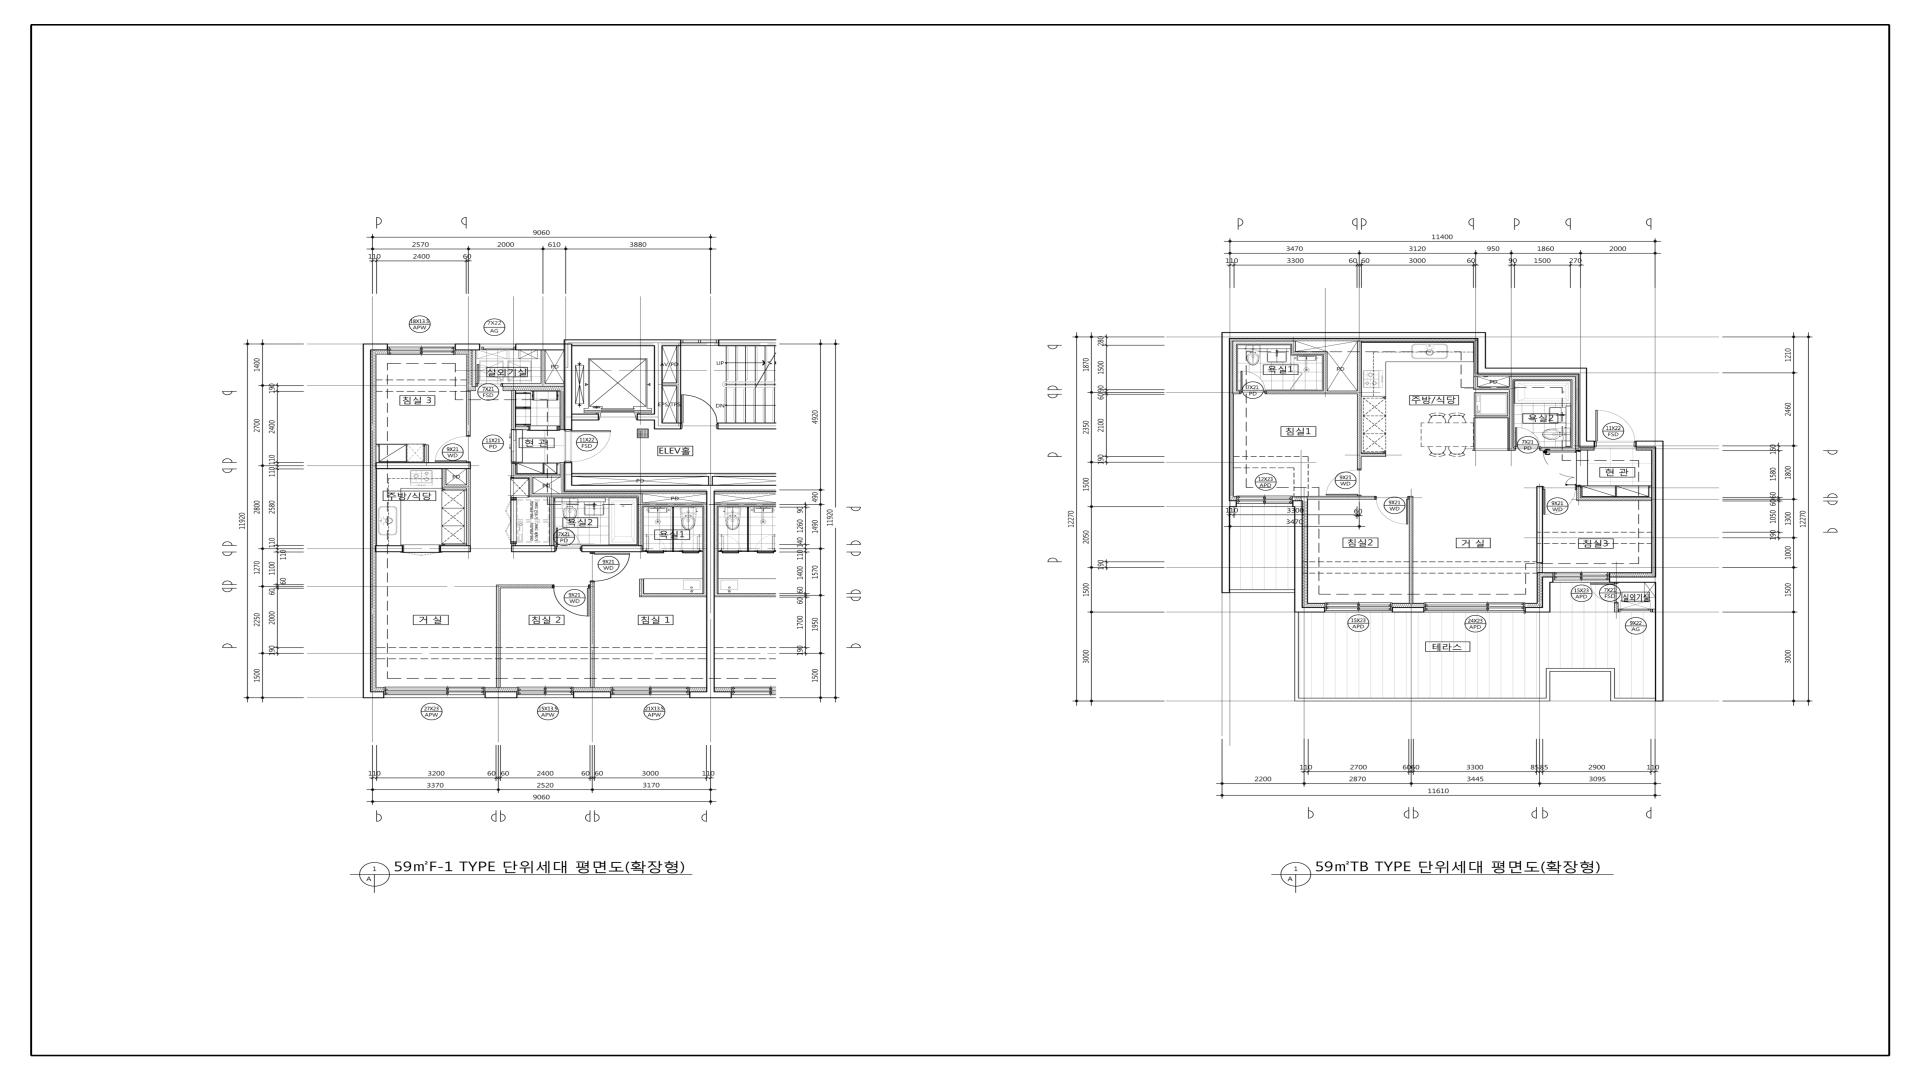door: (564, 430, 612, 463), (1594, 410, 1635, 447), (1543, 451, 1581, 485), (682, 394, 719, 429), (553, 584, 591, 617), (589, 553, 632, 582), (1325, 469, 1362, 496), (1375, 496, 1408, 525), (435, 436, 471, 463), (1543, 487, 1576, 514), (1514, 427, 1542, 451), (1240, 371, 1266, 394), (555, 527, 582, 551), (476, 364, 502, 386), (1590, 583, 1618, 603), (402, 545, 440, 555), (1290, 371, 1303, 390), (510, 430, 517, 463), (529, 426, 558, 431)
wall: (363, 351, 372, 692), (705, 492, 715, 691), (1230, 332, 1486, 339), (1655, 440, 1664, 612), (1221, 332, 1230, 500), (572, 485, 775, 492), (1292, 500, 1303, 612), (572, 473, 777, 477), (563, 344, 572, 430), (564, 339, 682, 345), (1486, 368, 1588, 375), (1578, 375, 1588, 447), (376, 463, 471, 469), (1408, 496, 1414, 604), (1536, 487, 1543, 572), (589, 582, 595, 687), (654, 345, 662, 414), (496, 584, 501, 687), (1357, 340, 1361, 469), (719, 339, 777, 347), (529, 493, 638, 497), (582, 546, 642, 553), (1509, 376, 1514, 451), (717, 423, 777, 430), (516, 343, 563, 351), (1266, 390, 1357, 394), (1477, 339, 1486, 375), (676, 345, 680, 423), (1609, 576, 1655, 583), (467, 469, 471, 546), (1577, 497, 1652, 501), (574, 691, 611, 699), (512, 546, 555, 553), (1572, 380, 1576, 451), (1542, 583, 1551, 613), (1307, 496, 1375, 500), (1513, 376, 1576, 380), (644, 593, 707, 597), (642, 502, 704, 506), (654, 421, 680, 430), (465, 390, 471, 436), (704, 504, 707, 593), (564, 463, 572, 492), (1393, 607, 1424, 613), (485, 691, 517, 698), (638, 495, 642, 546), (440, 546, 471, 553), (363, 343, 388, 351), (690, 691, 715, 699), (455, 343, 480, 351), (1233, 342, 1237, 390), (512, 473, 560, 477), (1323, 355, 1328, 390), (550, 497, 554, 545), (375, 546, 402, 553), (572, 414, 599, 421), (541, 351, 546, 384), (637, 414, 662, 421), (502, 384, 564, 386), (1237, 342, 1296, 344), (512, 390, 516, 430), (472, 351, 476, 386), (500, 585, 553, 588), (363, 691, 384, 698), (1635, 440, 1655, 447), (1221, 500, 1237, 508), (1296, 351, 1328, 355), (1540, 447, 1572, 451), (1478, 386, 1509, 390), (1303, 607, 1325, 612), (1524, 607, 1542, 613), (1361, 452, 1386, 456), (1542, 576, 1553, 583), (1473, 376, 1478, 390), (640, 579, 644, 597), (442, 469, 446, 488), (425, 444, 429, 463), (529, 477, 533, 495), (662, 382, 676, 386), (1291, 344, 1296, 355), (446, 485, 467, 488), (1577, 485, 1581, 497), (1588, 440, 1594, 447), (1614, 603, 1618, 612), (512, 464, 516, 473), (516, 427, 529, 430), (708, 477, 712, 485), (1233, 390, 1240, 394), (1290, 355, 1291, 371), (558, 426, 560, 430), (512, 545, 516, 546)
window: (384, 687, 485, 698), (1424, 603, 1524, 612), (611, 687, 690, 698), (388, 344, 455, 355), (1325, 603, 1393, 612), (517, 687, 574, 698), (1553, 572, 1609, 583), (1237, 496, 1292, 506), (480, 344, 516, 349), (1618, 609, 1655, 612)
